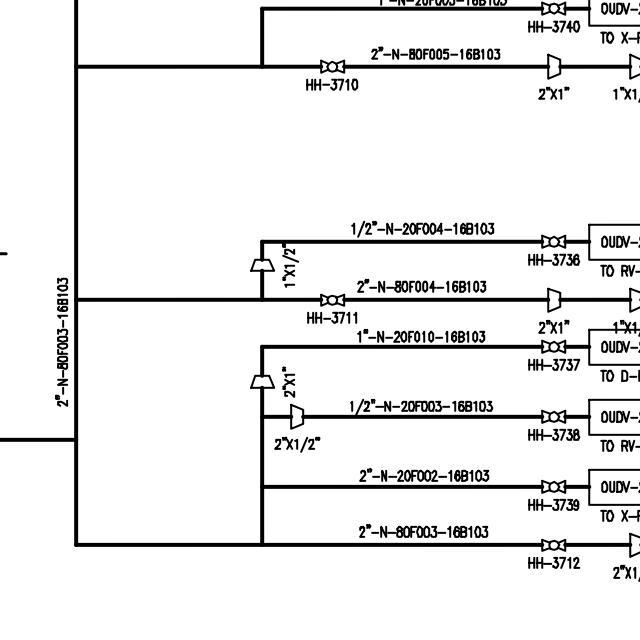BV2: (538, 533, 569, 552), (538, 475, 567, 495), (317, 290, 348, 307), (317, 56, 347, 73), (538, 408, 567, 425), (539, 0, 569, 16)
SP: (286, 399, 308, 433), (543, 285, 564, 316), (545, 50, 565, 81), (246, 372, 276, 392), (246, 256, 276, 275)
